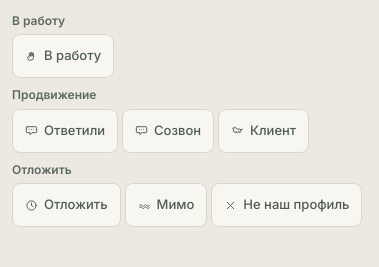
Test case: FeedbackButtons motion and status feedback › keeps failures explicit and recoverable
The width and height of the screenshot is (379, 267).
What coordinates should you click on to do the following:
click the button "В работу"
I would click on:
 (63, 56)
Its box is [12, 34, 114, 78].
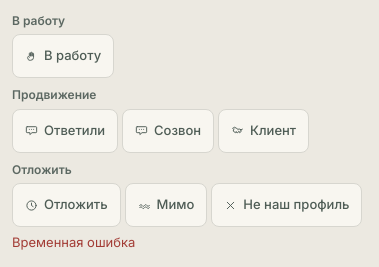
Expected: the message reads "Временная ошибка", [12, 234, 135, 250]
What coordinates should you click on to do the following:
click the button "В работу"
I would click on:
 (63, 56)
Its box is [12, 34, 114, 78].
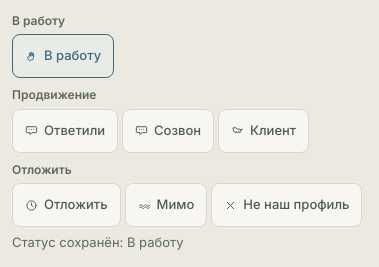
Expected: the message reads "Статус сохранён: В работу", [12, 234, 184, 250]
